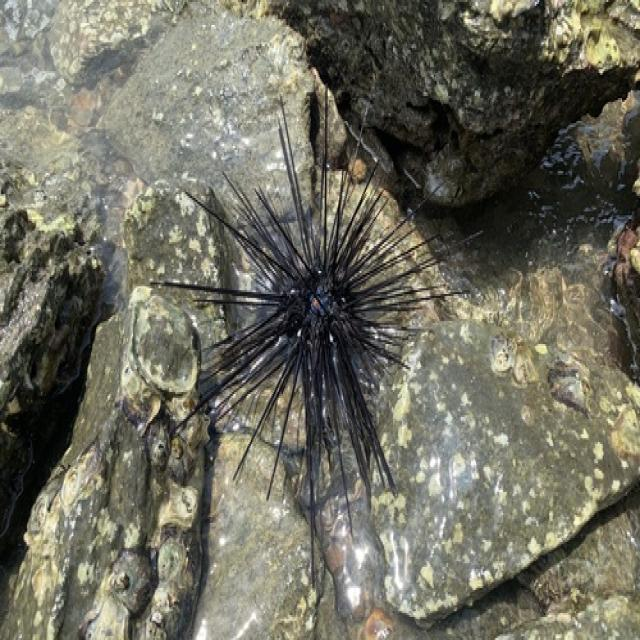Urchin: (154, 96, 484, 579)
